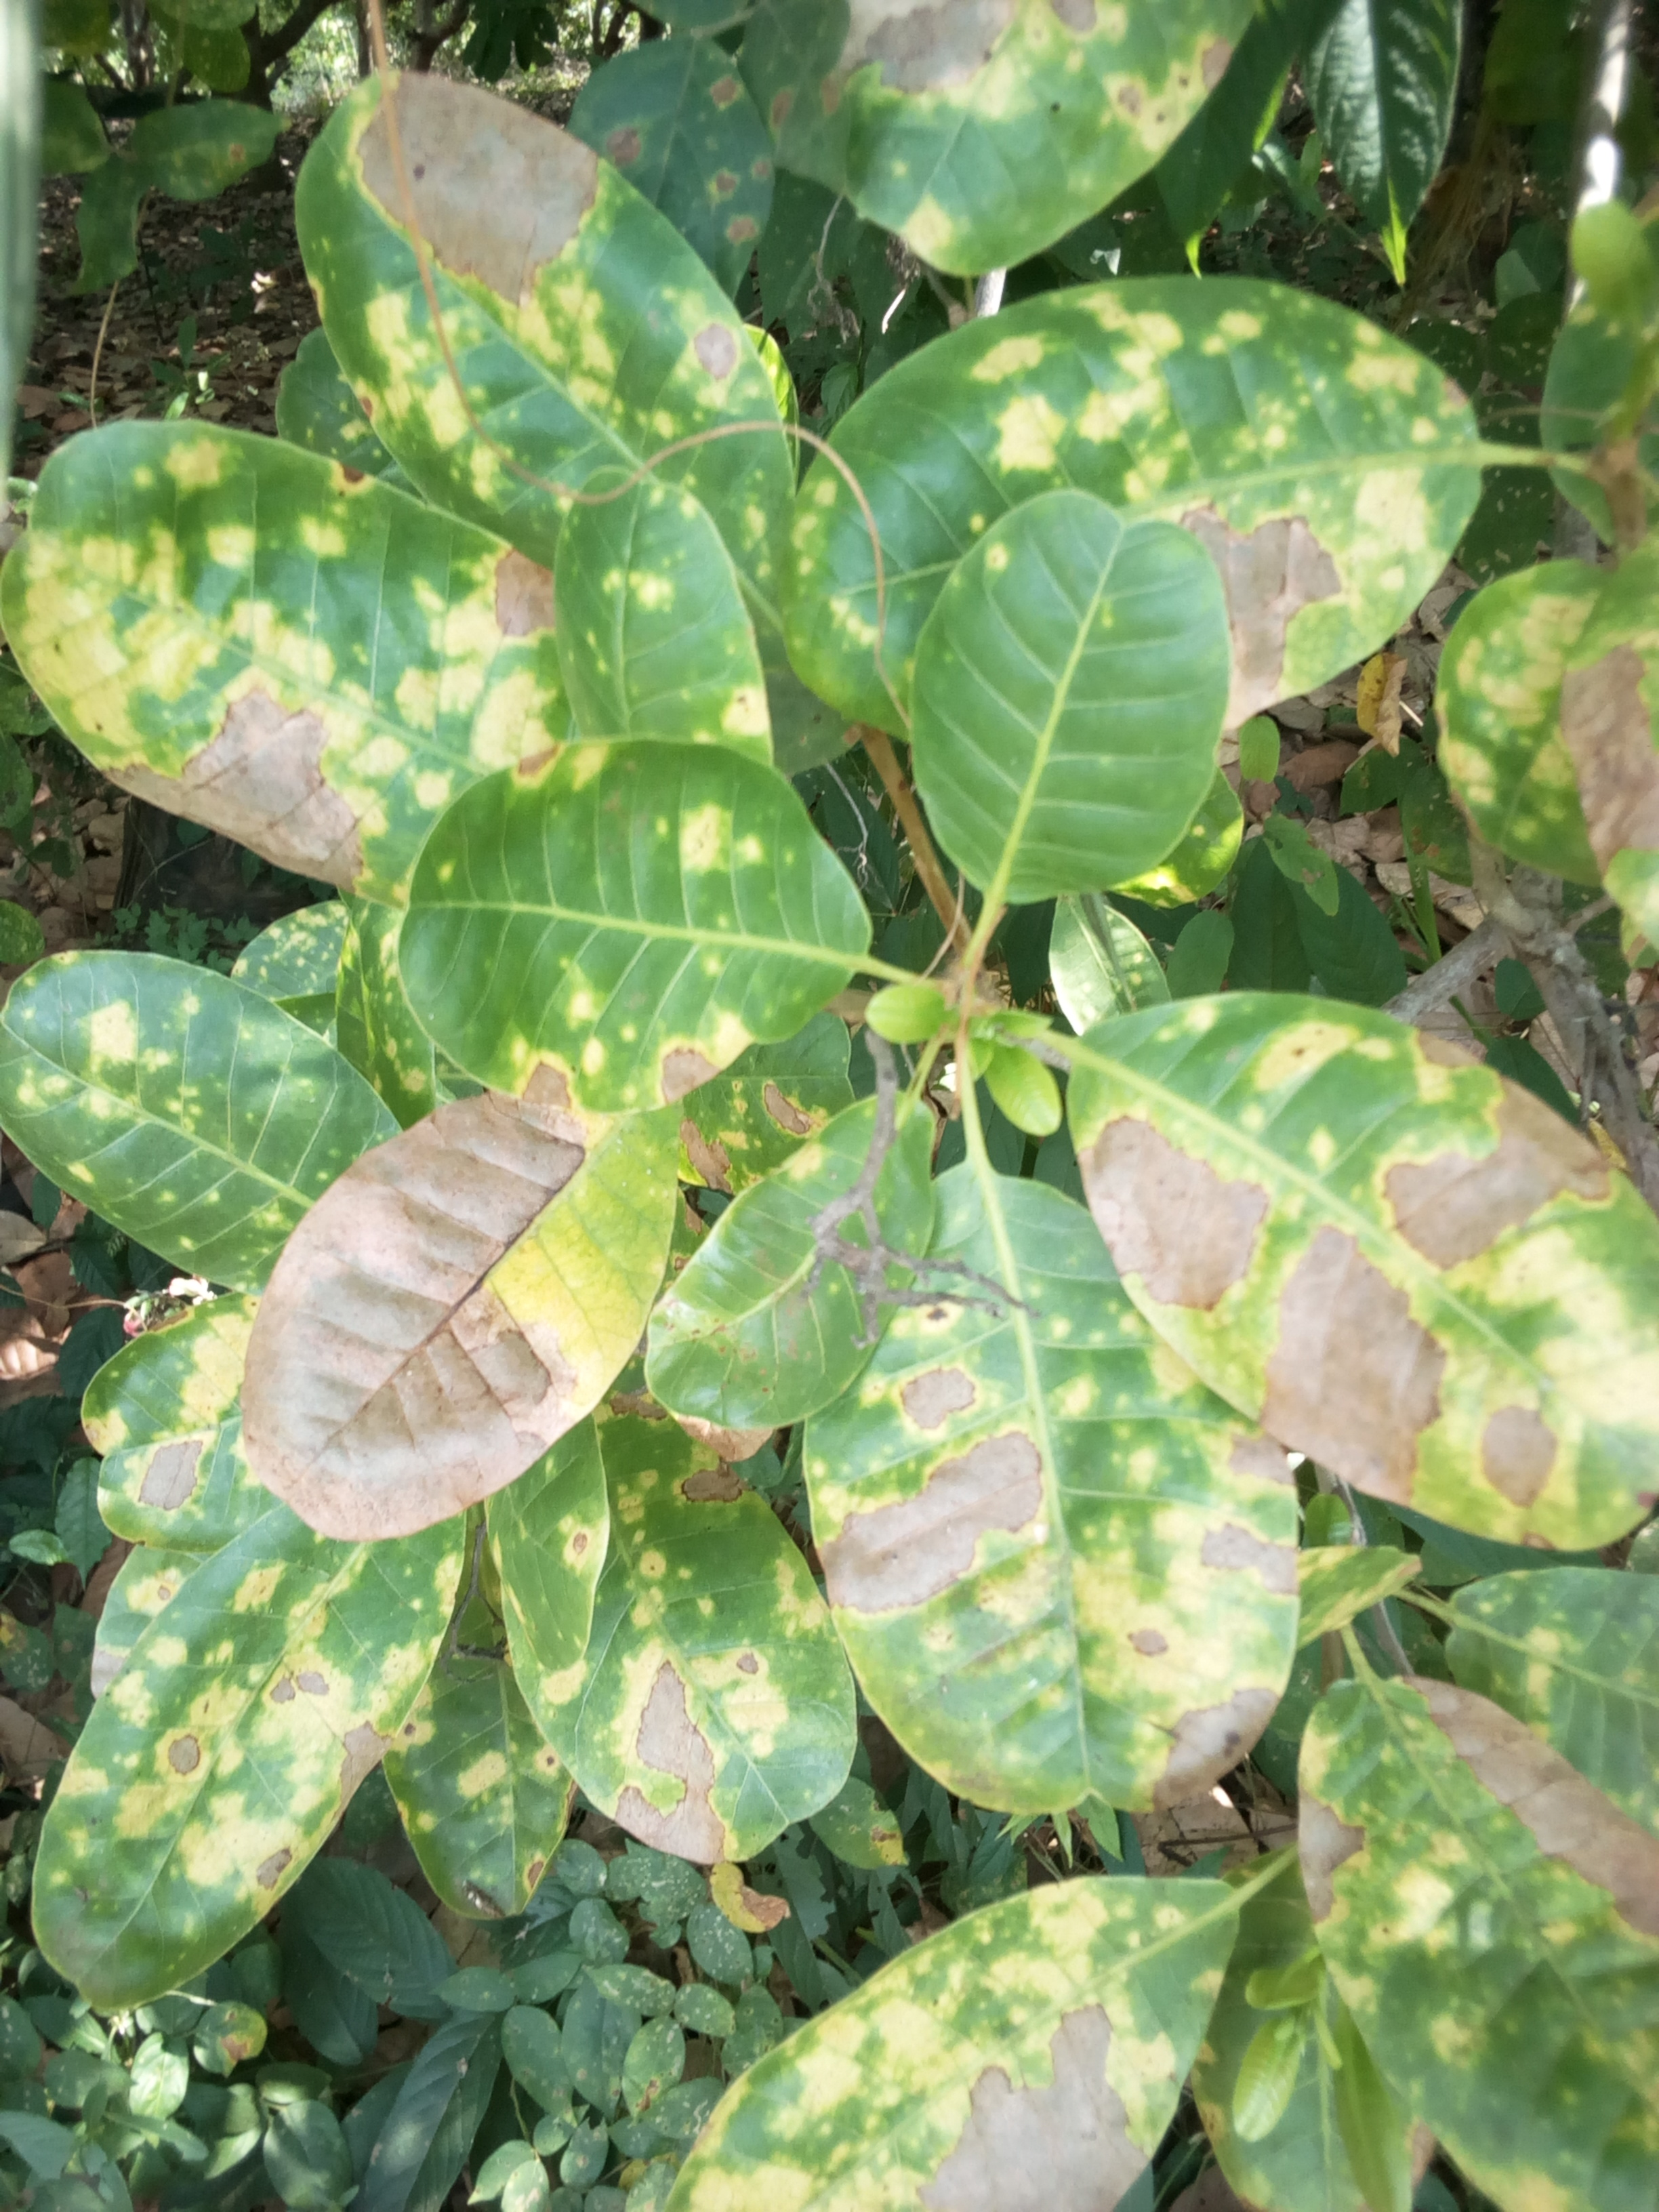Carence minérale: (782, 1134, 1436, 1808), (772, 266, 1537, 758), (1063, 977, 1659, 1557), (3, 421, 657, 883), (288, 56, 833, 590), (19, 1510, 500, 2017), (667, 1848, 1317, 2212), (237, 1099, 697, 1543), (477, 1418, 873, 1869), (687, 0, 1281, 272), (3, 944, 392, 1303)
